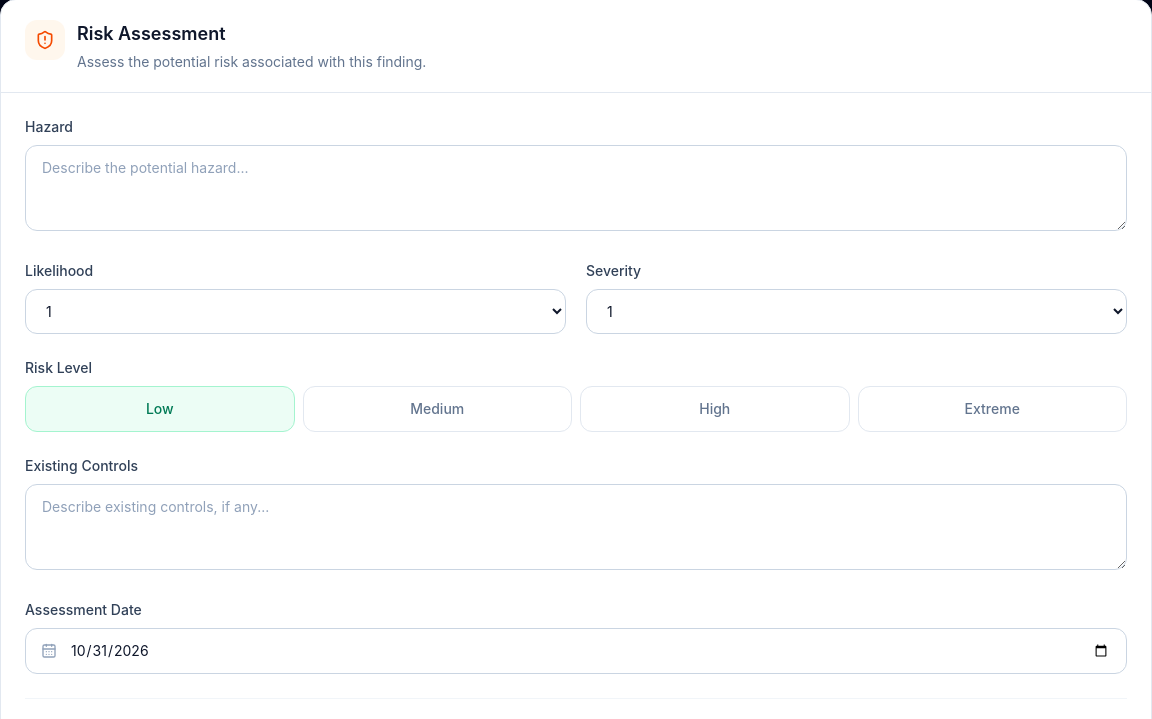
Test: RiskAssessmentForm › submits a risk assessment successfully
The image size is (1152, 719).
Type "Terhambatnya evakuasi saat keadaan darurat" into the text box labelled "Hazard".
click(576, 188); type("Terhambatnya evakuasi saat keadaan darurat")  # box [25,145,1127,231]
Select "3" in the dropdown labelled "Likelihood" at {"x": 296, "y": 312}, box [25,289,566,334]
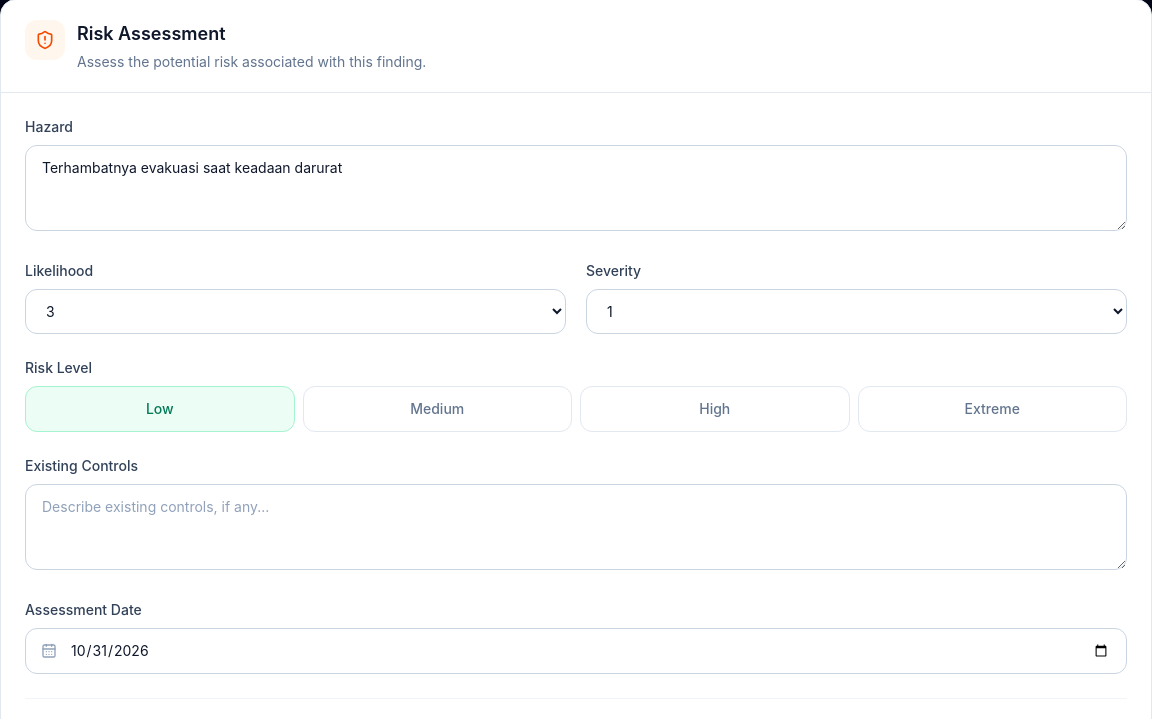
Select "4" in the dropdown labelled "Severity" at {"x": 856, "y": 312}, box [586,289,1127,334]
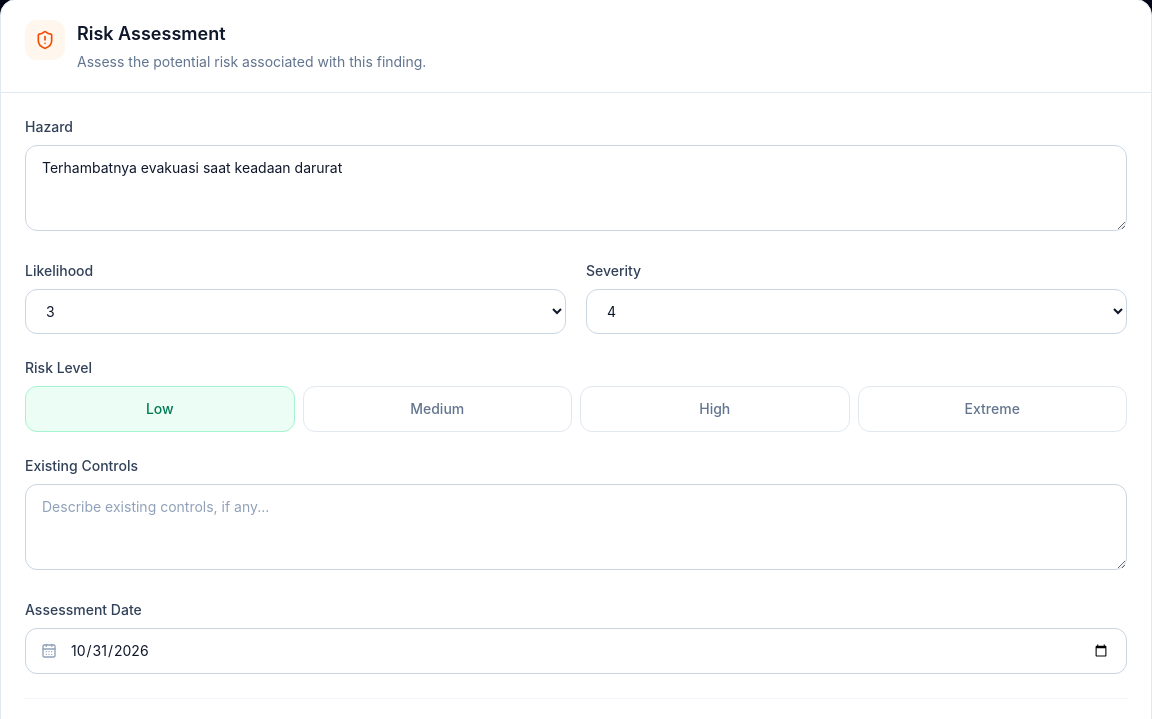
Click the button "High".
click(715, 409)  # box [580,386,850,432]
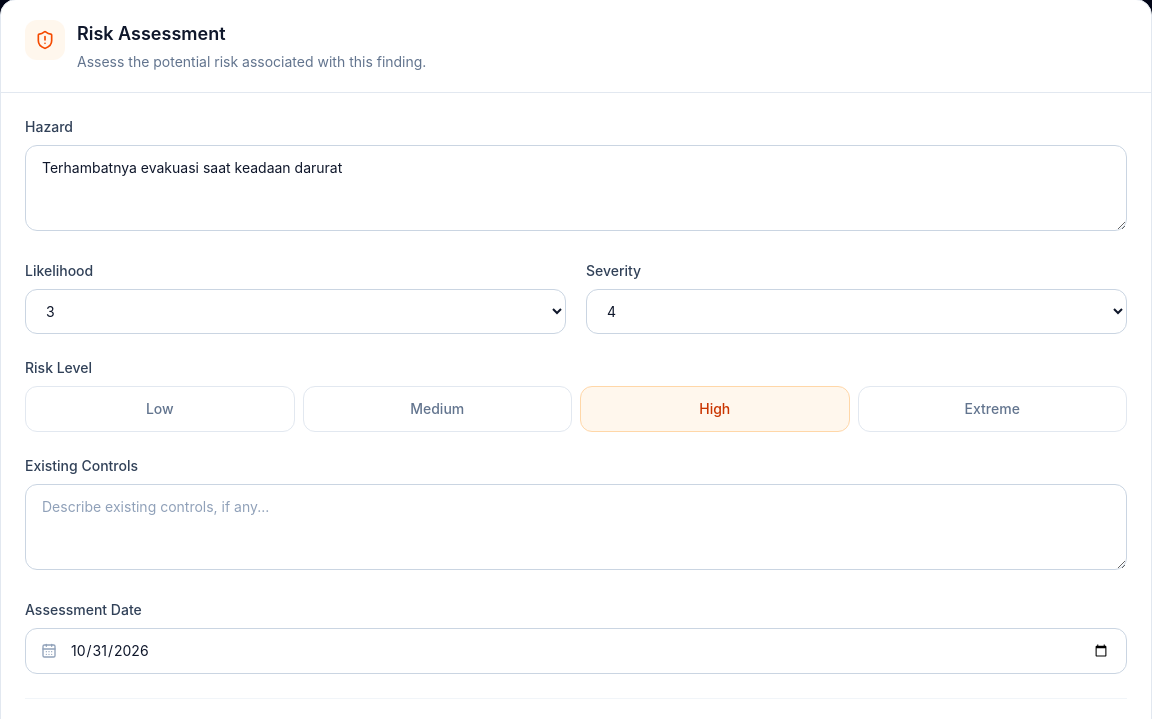
Type "Penandaan jalur evakuasi" into the text box labelled "Existing Controls".
click(576, 527); type("Penandaan jalur evakuasi")  # box [25,484,1127,570]
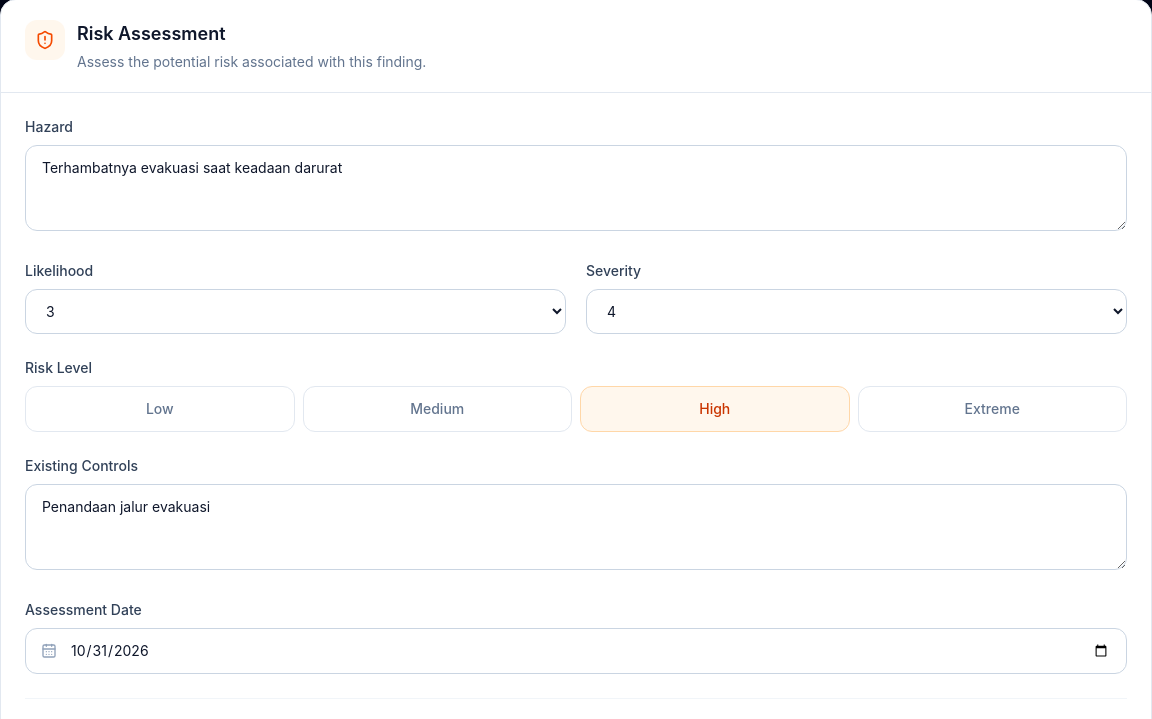
Type "2026-09-21" into the date field labelled "Assessment Date".
click(576, 651); type("2026-09-21")  # box [25,628,1127,674]
(page scrolled)
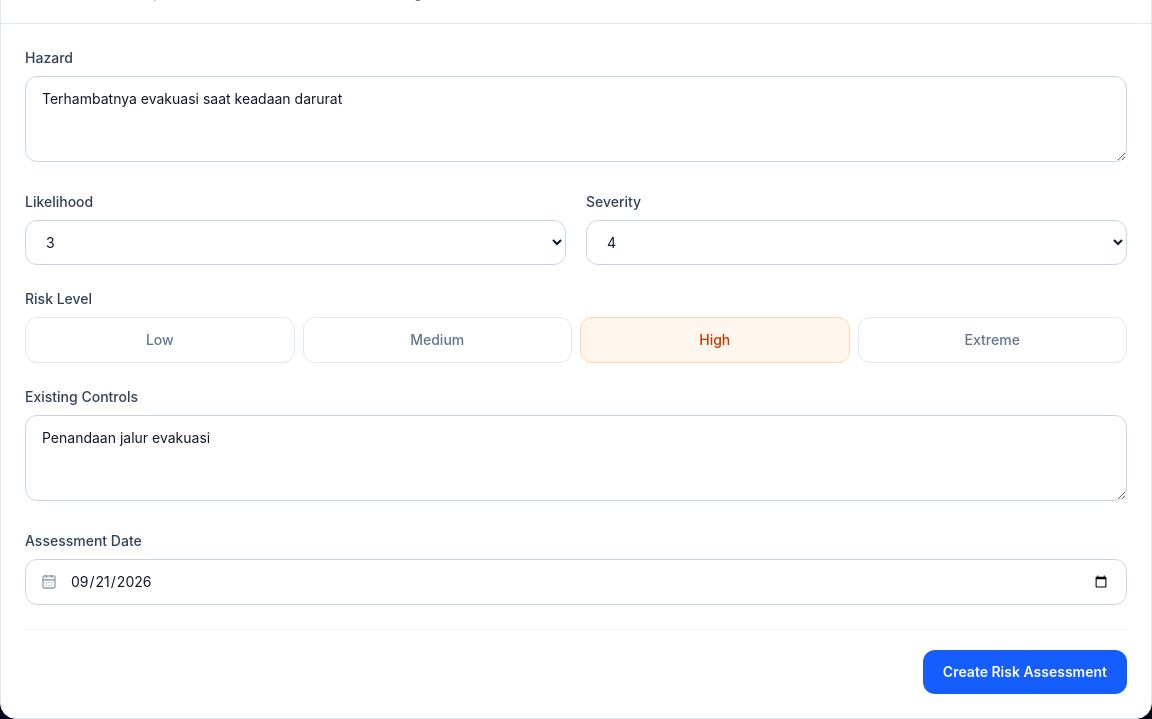
Click the button "Create Risk Assessment".
click(1025, 672)  # box [923,650,1127,694]
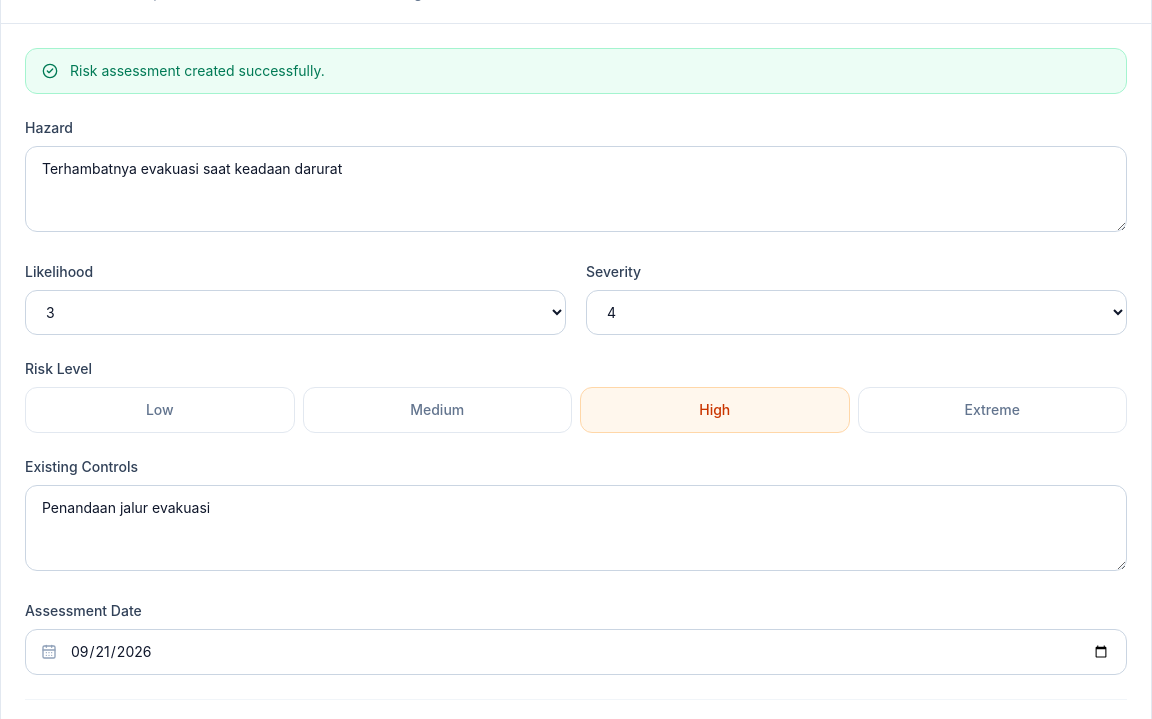
Check: the message reads "Risk assessment created successfully.", box [70,62,325,79]
